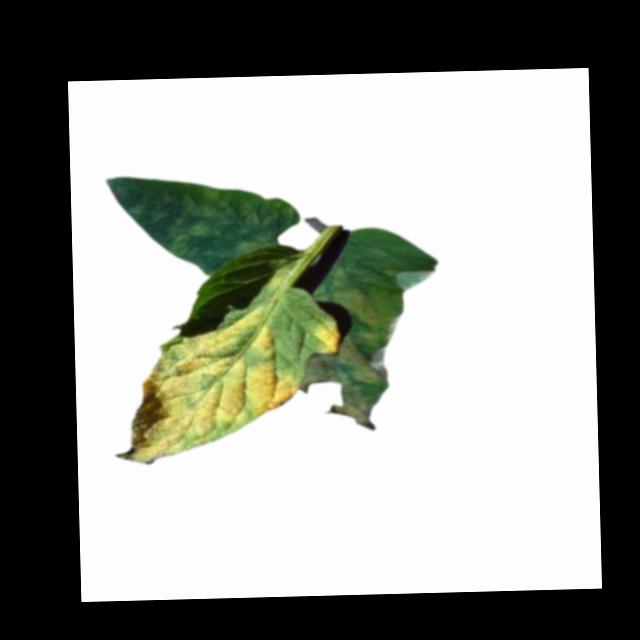Leaf_Mold: (112, 303, 299, 465), (106, 171, 296, 278), (295, 272, 404, 434)
